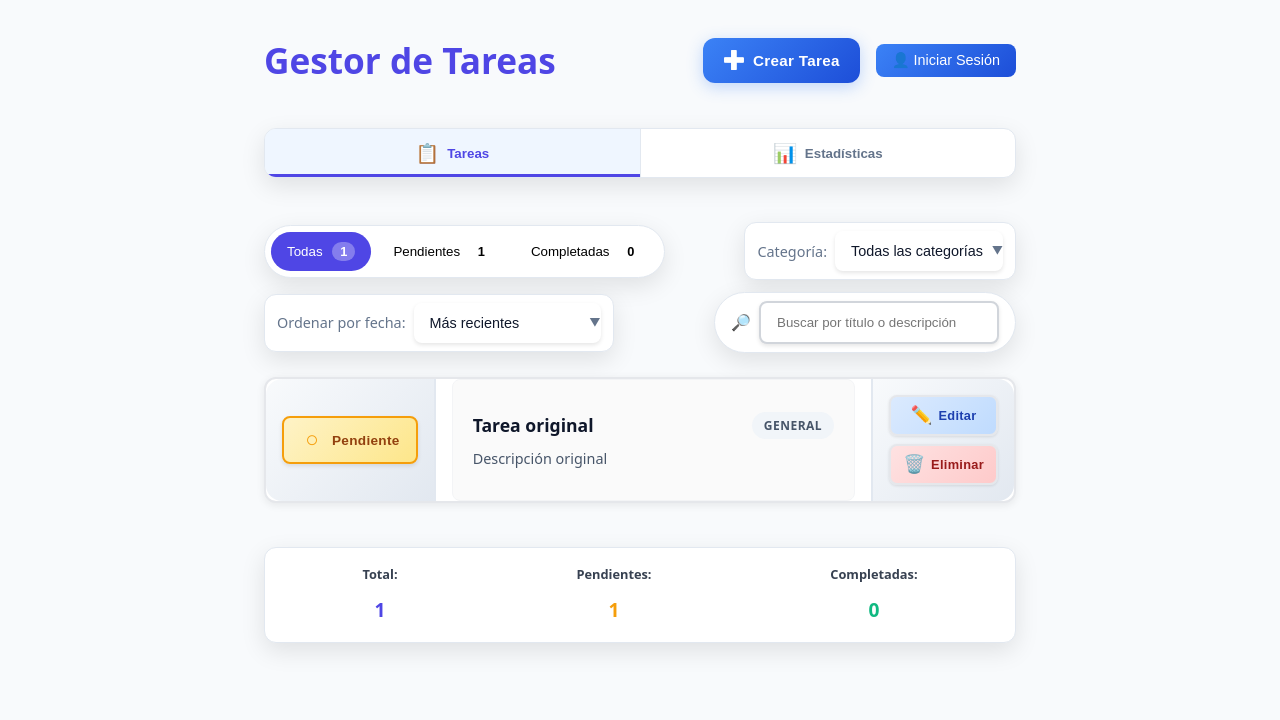
Gestor de Tareas - App Principal › 4. Editar Tarea › debe actualizar la tarea al editar y guardar
# Abrir modal de edición
Click the button with aria-label "editar tarea" at (944, 416), box x1=889 y1=395 x2=998 y2=436
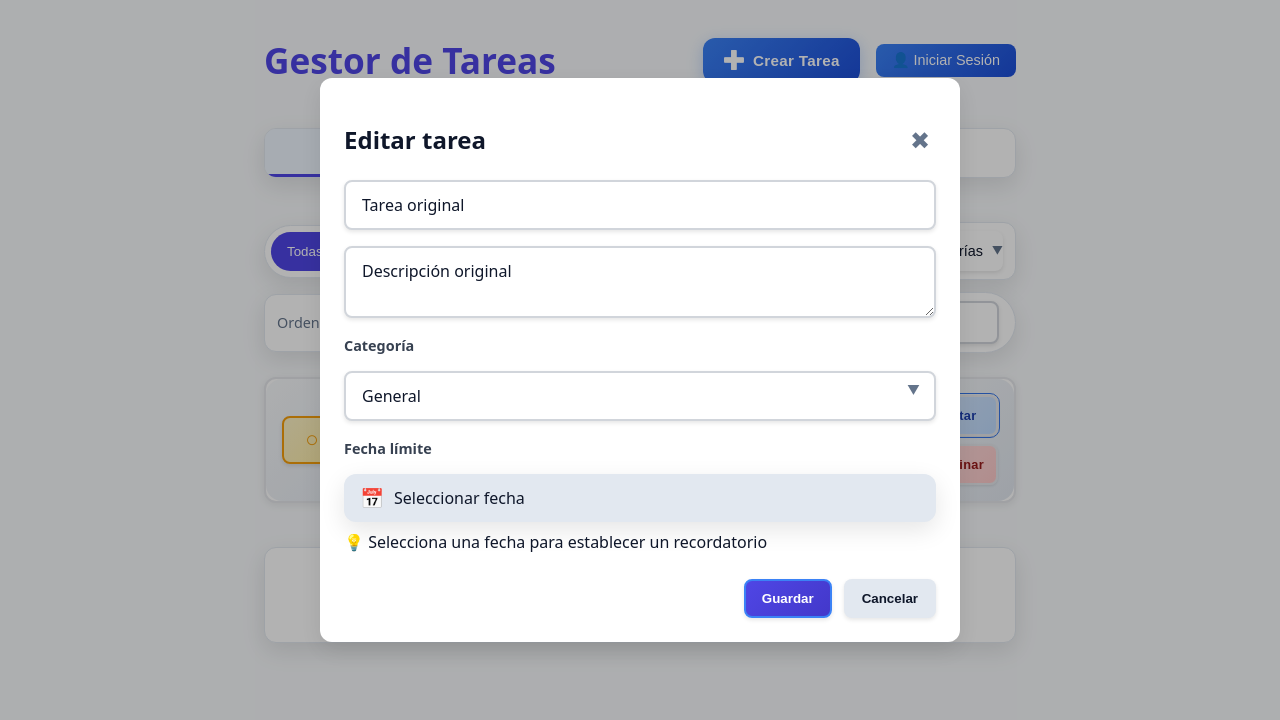
Replace the text in the field showing "Tarea original" with "Tarea editada" at (640, 205), box x1=344 y1=180 x2=936 y2=230
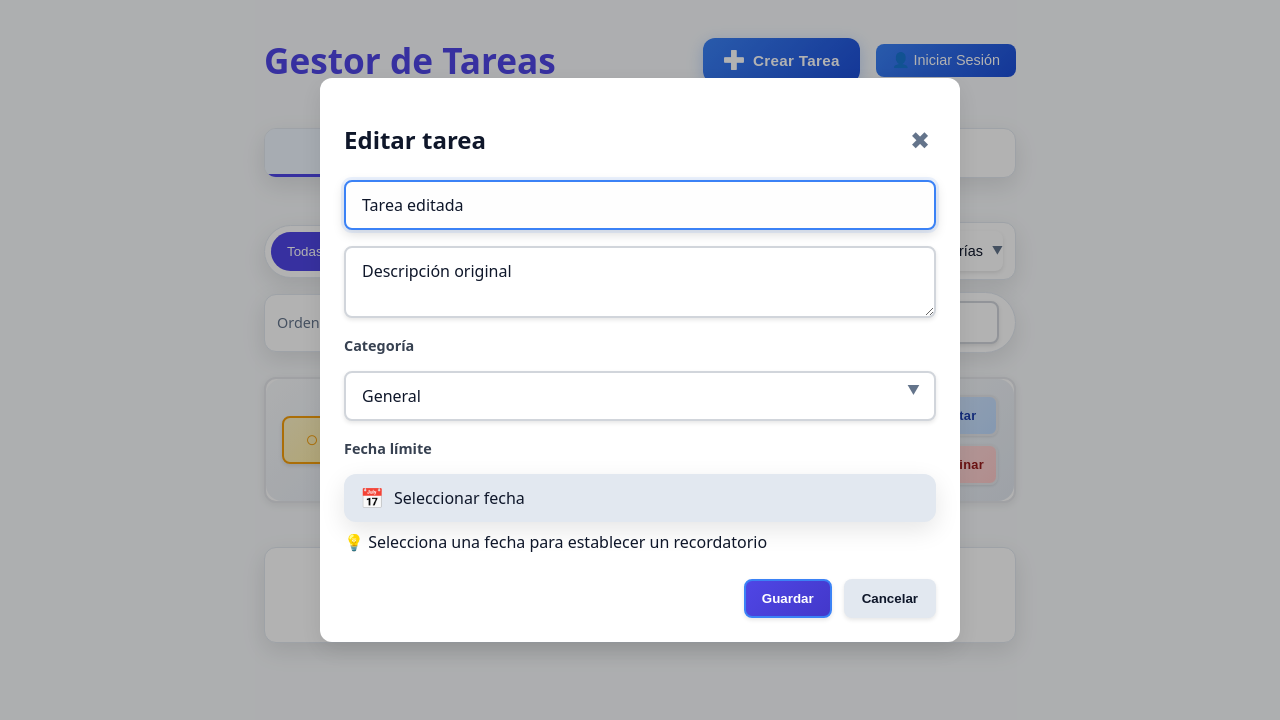
Replace the text in the text box showing "Descripción original" with "Descripción editada" at (640, 282), box x1=344 y1=246 x2=936 y2=318
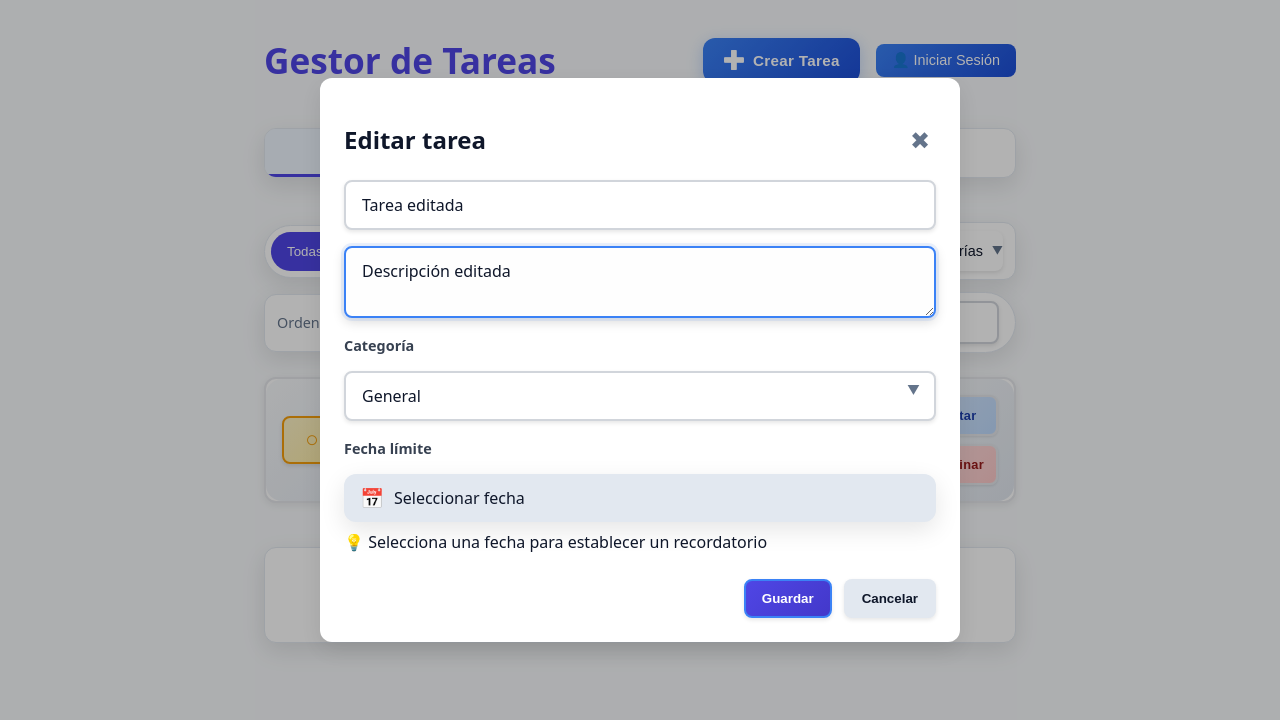
# Guardar cambios
Click the button "Guardar" at (788, 599), box x1=744 y1=579 x2=832 y2=618
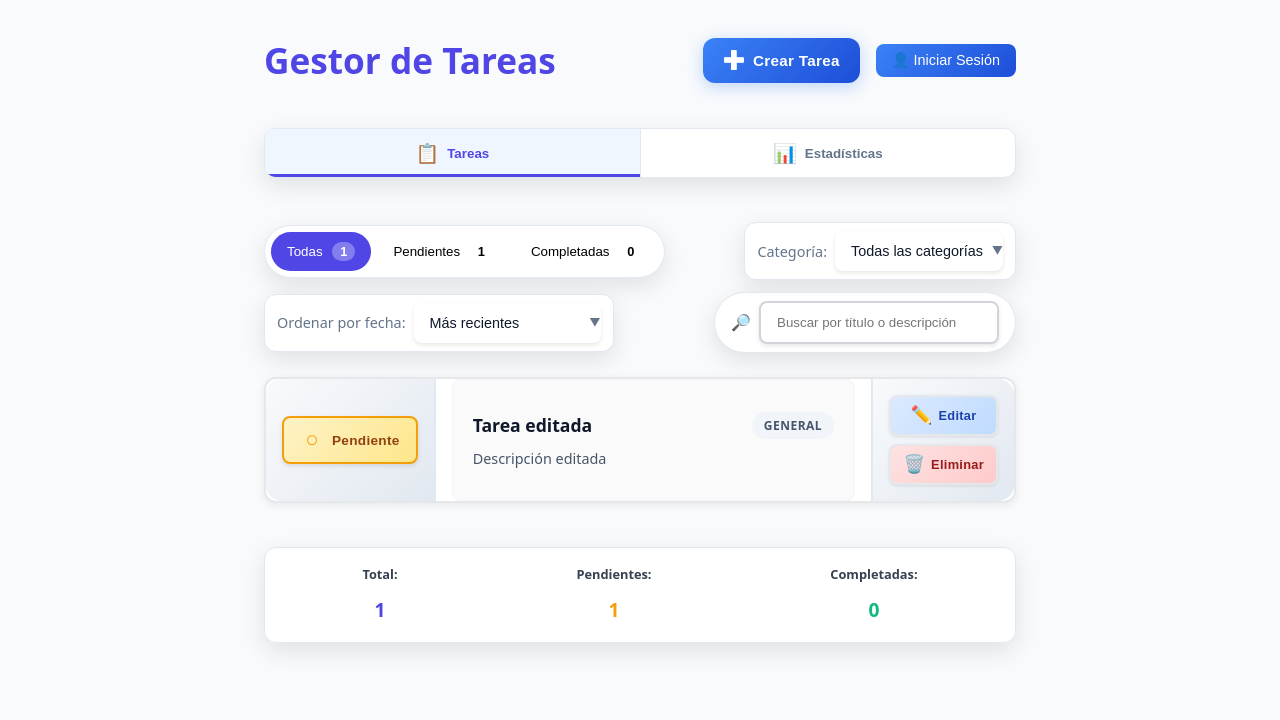
Check: the heading "Tarea editada" is shown, box x1=473 y1=413 x2=592 y2=437
Check: the text "Descripción editada" is shown, box x1=473 y1=449 x2=606 y2=468
